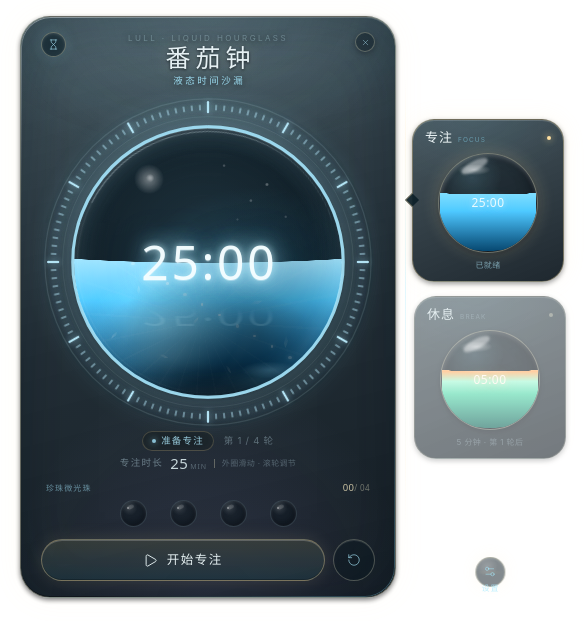
it: 右侧卡片可直接切换专注 / 休息
Click the button with aria-label "休息，05:00": (490,378) 414,296 -> 566,459
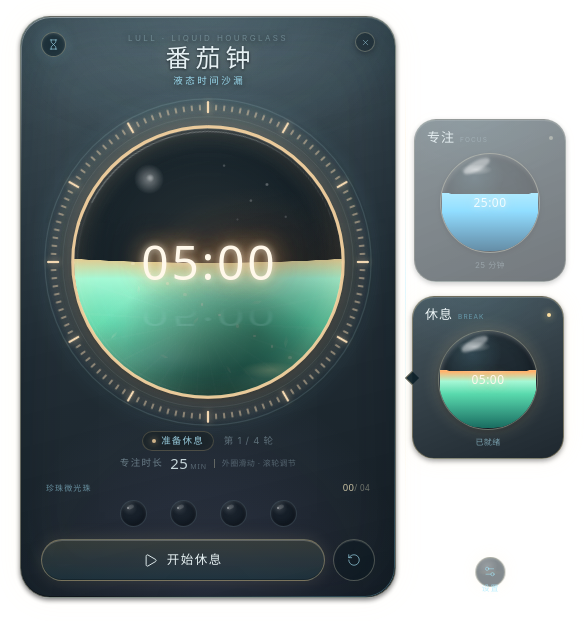
Expected: the button "开始休息" is shown, 41,539 -> 325,581
Expected: the button named "开始休息，05:00" is shown, 73,127 -> 343,398
